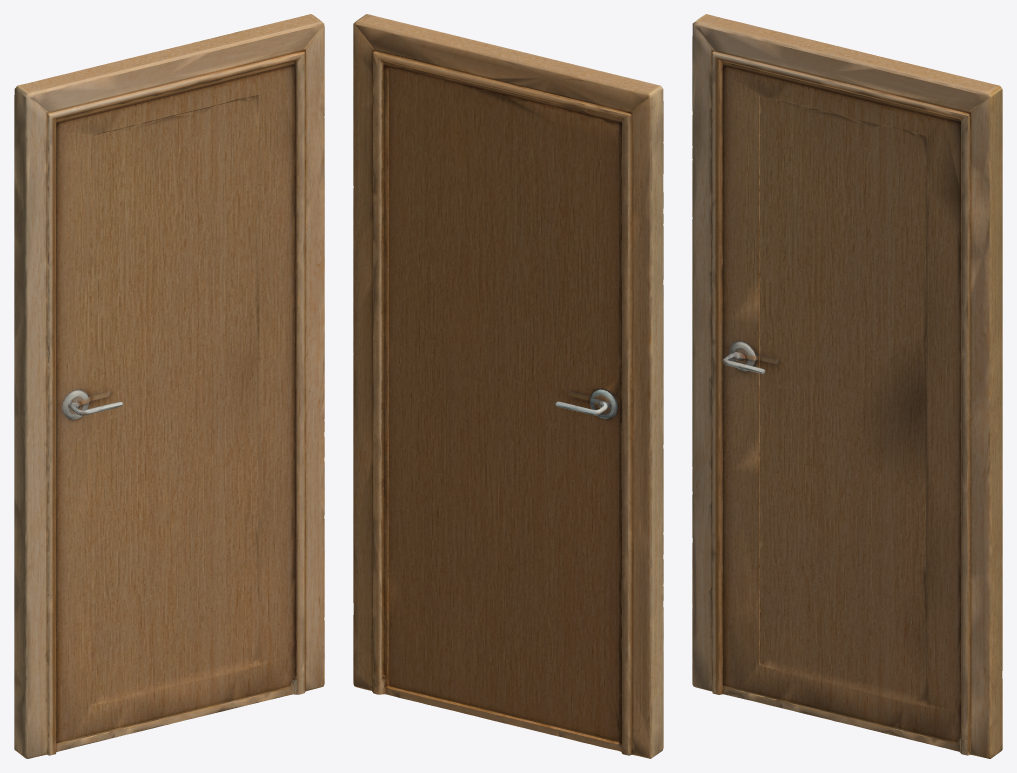
The model's file is door_v01_with VARCO.fbx.
3 views of the same model, side by side, from view 1: azimuth 30°, elevation 25°; view 2: azimuth 150°, elevation 25°; view 3: azimuth 330°, elevation 25° (orthographic).
Visible parts, largest first — view 1: Door; view 2: Door; view 3: Door.
Part boxes in pixels (left/top/right/bottom): Door: left=14, top=14, right=324, bottom=758; Door: left=353, top=14, right=663, bottom=758; Door: left=692, top=14, right=1002, bottom=758.
Size of the model in its own units: 101 by 215 by 22.5.
Materials: 1 (1 with a texture image).
